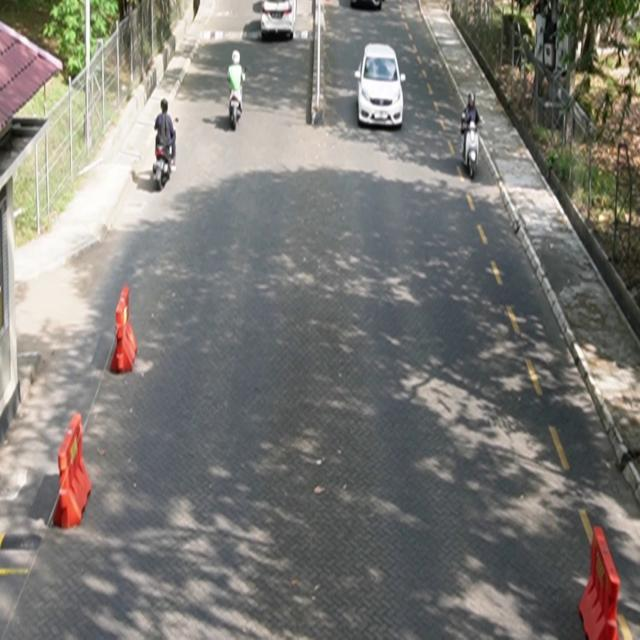car: (355, 43, 407, 130), (261, 1, 297, 41)
